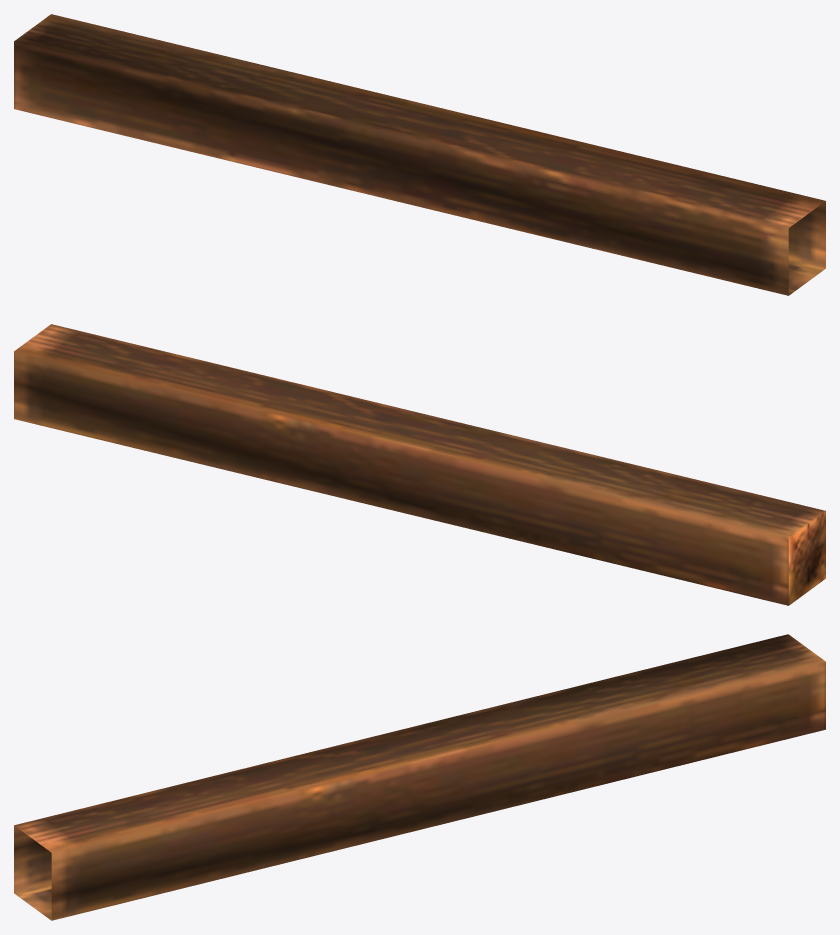
The model's file is SWORDLIGHT20_JAILBRACE07.fbx.
3 renders of one model, top to bottom at view 1: azimuth 30°, elevation 25°; view 2: azimuth 210°, elevation 25°; view 3: azimuth 270°, elevation 25°, orthographic.
Visible parts, largest first — view 1: SWORDLIGHT20_JAILBRACE07; view 2: SWORDLIGHT20_JAILBRACE07; view 3: SWORDLIGHT20_JAILBRACE07.
Part boxes in pixels (bbox=[...]): SWORDLIGHT20_JAILBRACE07: bbox=[14, 14, 825, 295]; SWORDLIGHT20_JAILBRACE07: bbox=[14, 324, 825, 605]; SWORDLIGHT20_JAILBRACE07: bbox=[14, 634, 825, 920].
Bounding box in the file's own units: 27555 × 4000 × 43250.
Materials: 1 (1 with a texture image).
